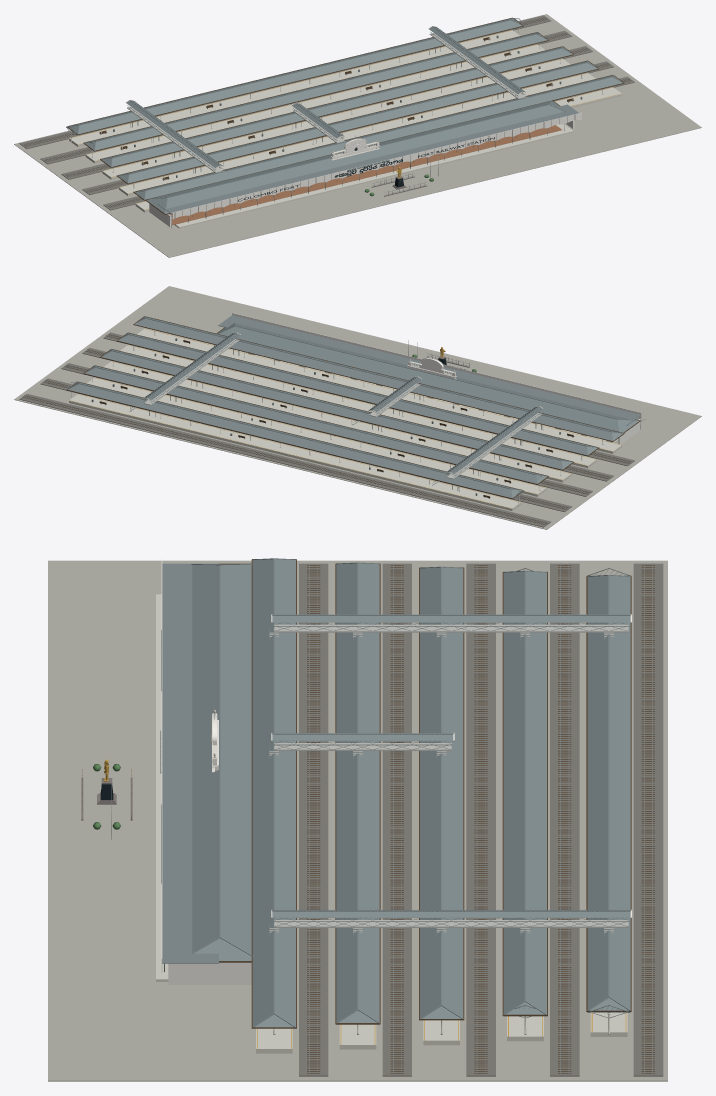
The model's file is fort.glb.
The picture shows the model from 3 angles, top to bottom: view 1: azimuth 30°, elevation 25°; view 2: azimuth 150°, elevation 25°; view 3: azimuth 270°, elevation 25°; orthographic projection. The views are drawn at different scales.
Parts seen in each view (by area): view 1: Roof / station platform canopies / Roof tile, 01 Station / foundations and accessible forecourt / Paving, 07 Platforms / decks and yellow safety edges / Limestone, Roof / station entrance / Roof tile, Roof / station platform canopies / Timber, 09 Broad gauge track / rails and ballast / Gravel, 03 Historic canopy / scalloped fascia / White plaster, Interior / station ticket hall and queues / Ochre tile, 03 Historic canopy / scalloped fascia / Roof tile, 01 Station / foundations and accessible forecourt / Limeston, Roof / station footbridges / Roof tile.001, Roof / station footbridges / Roof tile (+8 smaller); view 2: Roof / station platform canopies / Roof tile, 07 Platforms / decks and yellow safety edges / Limestone, 01 Station / foundations and accessible forecourt / Paving, 09 Broad gauge track / rails and ballast / Gravel, Roof / station entrance / Roof tile, Roof / station platform canopies / Timber, 03 Historic canopy / scalloped fascia / Roof tile, 07 Platforms / decks and yellow safety edges / Gold, Roof / station footbridges / Roof tile.001, 09 Broad gauge track / rails and ballast / Metal, Roof / station footbridges / Roof tile, 10 Passenger bridges / decks rails and stairs / Concrete (+6 smaller); view 3: 01 Station / foundations and accessible forecourt / Paving, Roof / station platform canopies / Roof tile, 09 Broad gauge track / rails and ballast / Gravel, Roof / station entrance / Roof tile, 03 Historic canopy / scalloped fascia / Roof tile, 09 Broad gauge track / sleepers / Timber, 09 Broad gauge track / sleepers / Timber.001, 10 Passenger bridges / decks rails and stairs / Concrete, Roof / station footbridges / Roof tile, Roof / station platform canopies / Timber, 09 Broad gauge track / rails and ballast / Metal, 07 Platforms / decks and yellow safety edges / Limestone (+5 smaller).
Part boxes in pixels (x1,y1,x2,y2): Roof / station platform canopies / Roof tile: [67, 18, 623, 199]; 01 Station / foundations and accessible forecourt / Paving: [14, 14, 701, 257]; 07 Platforms / decks and yellow safety edges / Limestone: [69, 30, 622, 212]; Roof / station entrance / Roof tile: [146, 101, 565, 213]; Roof / station platform canopies / Timber: [66, 17, 624, 200]; 09 Broad gauge track / rails and ballast / Gravel: [19, 15, 634, 210]; 03 Historic canopy / scalloped fascia / White plaster: [172, 112, 581, 219]; Interior / station ticket hall and queues / Ochre tile: [169, 125, 561, 225]; 03 Historic canopy / scalloped fascia / Roof tile: [158, 104, 578, 214]; 01 Station / foundations and accessible forecourt / Limeston: [175, 124, 573, 228]; Roof / station footbridges / Roof tile.001: [126, 26, 525, 167]; Roof / station footbridges / Roof tile: [126, 26, 523, 167]; Roof / station platform canopies / Roof tile: [67, 316, 623, 498]; 07 Platforms / decks and yellow safety edges / Limestone: [69, 328, 622, 510]; 01 Station / foundations and accessible forecourt / Paving: [14, 286, 701, 529]; 09 Broad gauge track / rails and ballast / Gravel: [19, 332, 634, 527]; Roof / station entrance / Roof tile: [217, 323, 639, 432]; Roof / station platform canopies / Timber: [67, 316, 624, 498]; 03 Historic canopy / scalloped fascia / Roof tile: [218, 315, 641, 425]; 07 Platforms / decks and yellow safety edges / Gold: [69, 328, 621, 508]; Roof / station footbridges / Roof tile.001: [144, 333, 542, 473]; 09 Broad gauge track / rails and ballast / Metal: [22, 334, 631, 524]; Roof / station footbridges / Roof tile: [145, 332, 542, 474]; 10 Passenger bridges / decks rails and stairs / Concrete: [129, 339, 542, 485]; 01 Station / foundations and accessible forecourt / Paving: [48, 560, 667, 1081]; Roof / station platform canopies / Roof tile: [252, 558, 630, 1027]; 09 Broad gauge track / rails and ballast / Gravel: [299, 563, 663, 1076]; Roof / station entrance / Roof tile: [191, 564, 253, 960]; 03 Historic canopy / scalloped fascia / Roof tile: [162, 563, 218, 963]; 09 Broad gauge track / sleepers / Timber: [307, 565, 654, 1073]; 09 Broad gauge track / sleepers / Timber.001: [307, 567, 654, 1071]; 10 Passenger bridges / decks rails and stairs / Concrete: [269, 624, 628, 932]; Roof / station footbridges / Roof tile: [272, 614, 631, 917]; Roof / station platform canopies / Timber: [251, 559, 631, 1028]; 09 Broad gauge track / rails and ballast / Metal: [309, 563, 652, 1075]; 07 Platforms / decks and yellow safety edges / Limestone: [256, 1012, 627, 1053].
Size of the model in its own units: 250 by 16.28 by 126.
